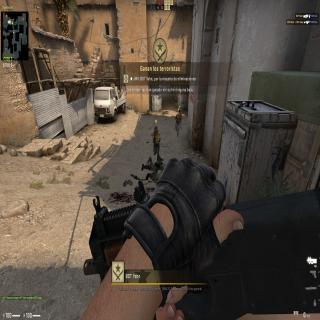T-Head: (154, 126, 158, 132), (178, 112, 180, 117), (179, 110, 181, 114)
